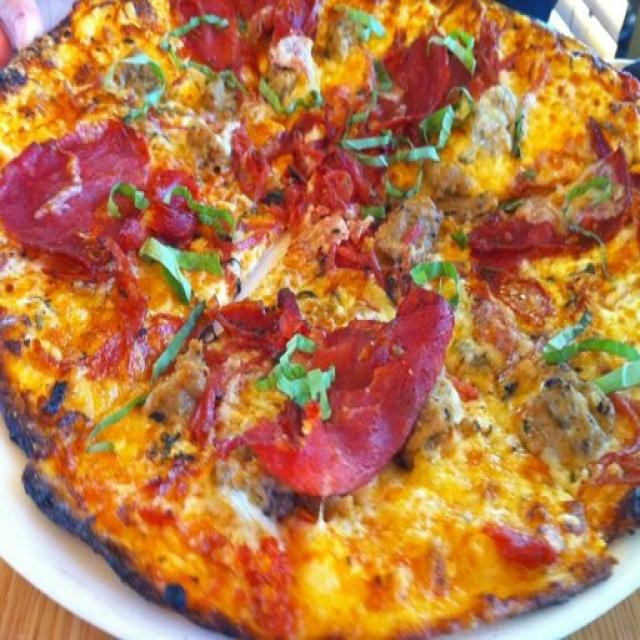Basil: (148, 1, 231, 83), (556, 166, 615, 275), (398, 84, 476, 166), (536, 313, 640, 367), (160, 168, 244, 234), (260, 331, 332, 406), (149, 297, 207, 386), (143, 240, 234, 296), (247, 67, 331, 118), (127, 38, 171, 135), (406, 244, 456, 318), (83, 396, 144, 454), (434, 23, 487, 82), (589, 349, 640, 397), (344, 117, 391, 169), (336, 4, 393, 45), (206, 64, 250, 116), (105, 180, 156, 222), (364, 56, 393, 123), (385, 163, 427, 197), (355, 197, 383, 227), (447, 223, 477, 249), (516, 152, 540, 184), (501, 204, 524, 218)
Ham: (195, 279, 448, 505), (0, 104, 204, 258), (217, 102, 402, 228), (478, 127, 640, 251), (383, 23, 510, 121), (164, 0, 314, 69)
Mushrooms: (517, 375, 630, 467), (380, 194, 434, 264), (454, 104, 511, 170)
Pizza: (0, 3, 640, 640)
